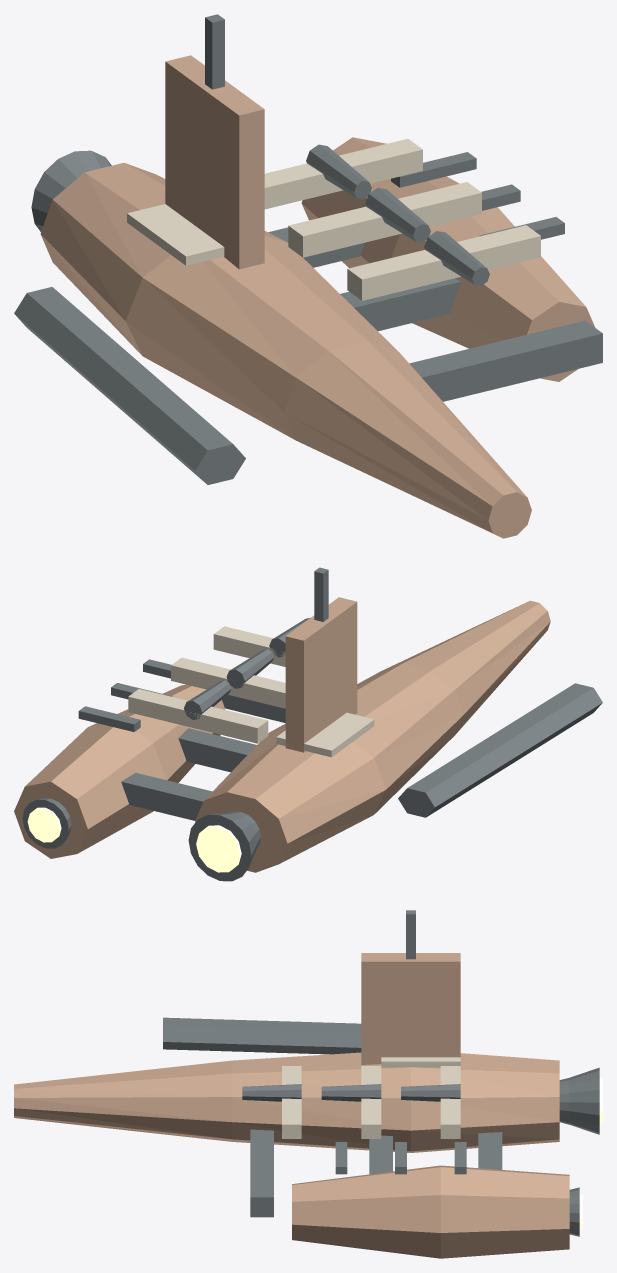
3 views of the same model, one above another, from view 1: azimuth 30°, elevation 25°; view 2: azimuth 150°, elevation 25°; view 3: azimuth 270°, elevation 25° (orthographic). The views are drawn at different scales.
Size of the model in its own units: 8.2 by 5.8 by 11.87.
